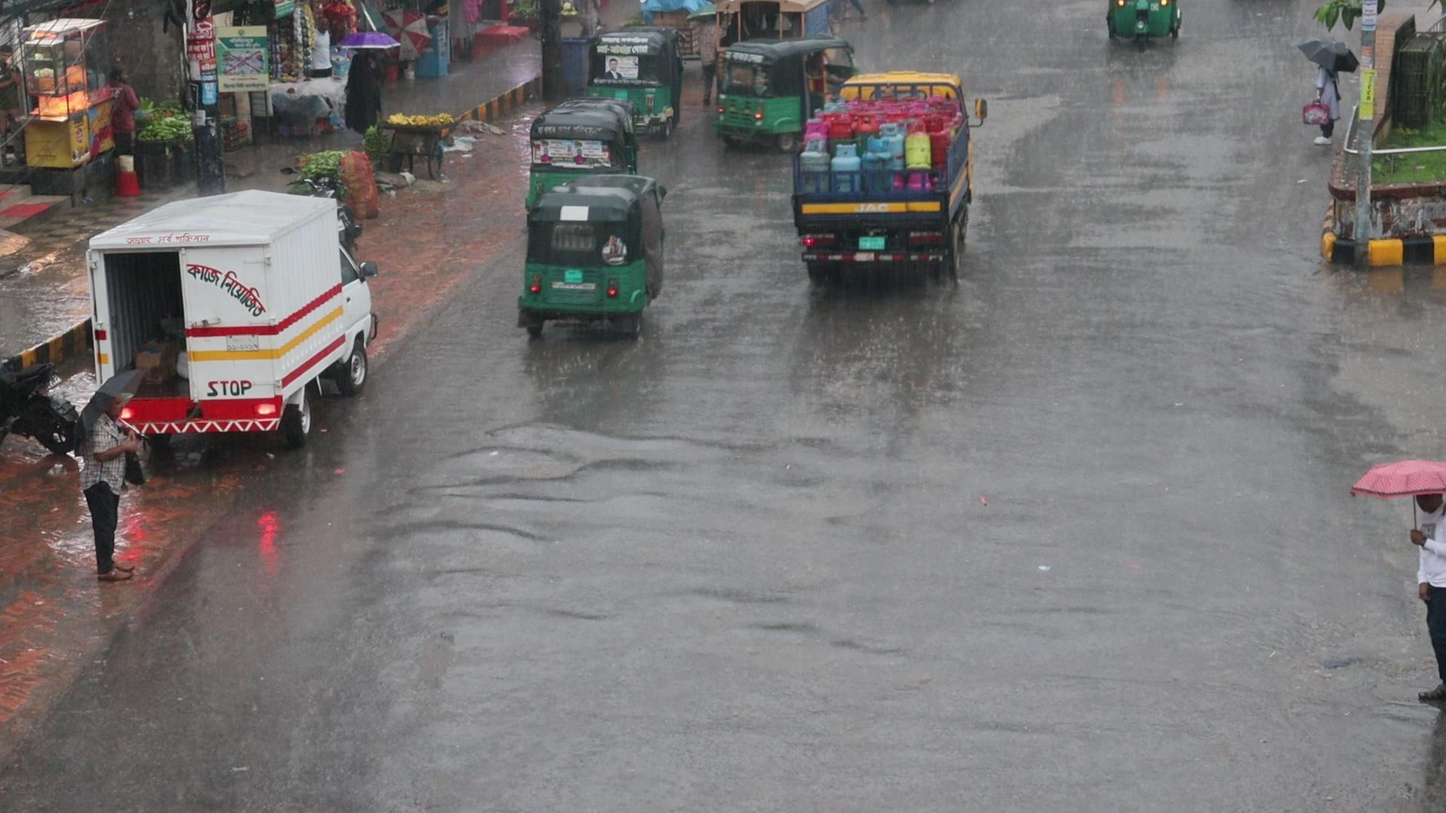Truck: (789, 67, 976, 294)
